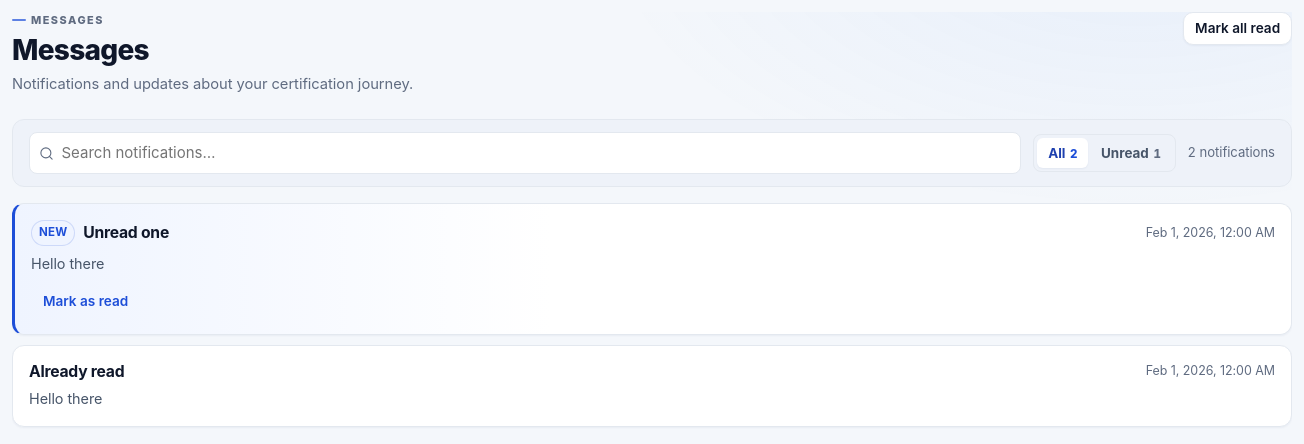
Test: Messages (premium inbox) › narrows the inbox to unread notifications
Expected: the heading "Already read" is shown, [29,362,124,381]
Click the button "Unread1". click: (1131, 153)
box: [1090,138,1172,168]
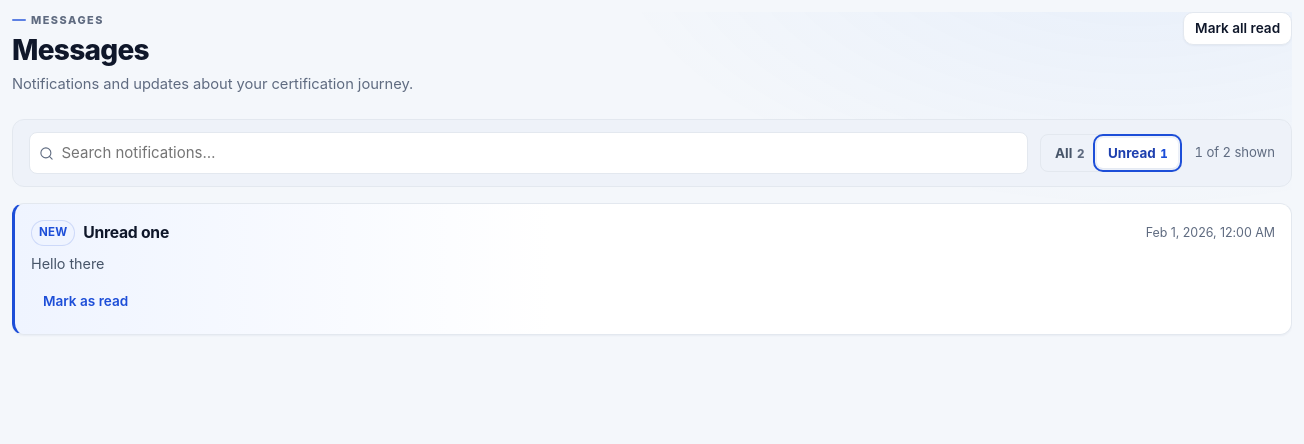
Expected: the heading "Unread one" is shown, [83,223,169,243]
Result: the heading "Already read" is gone
